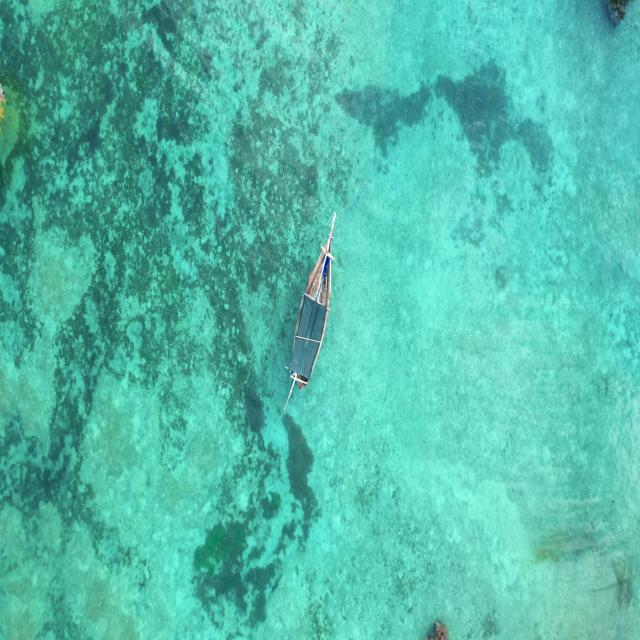ship: (289, 196, 335, 405)
